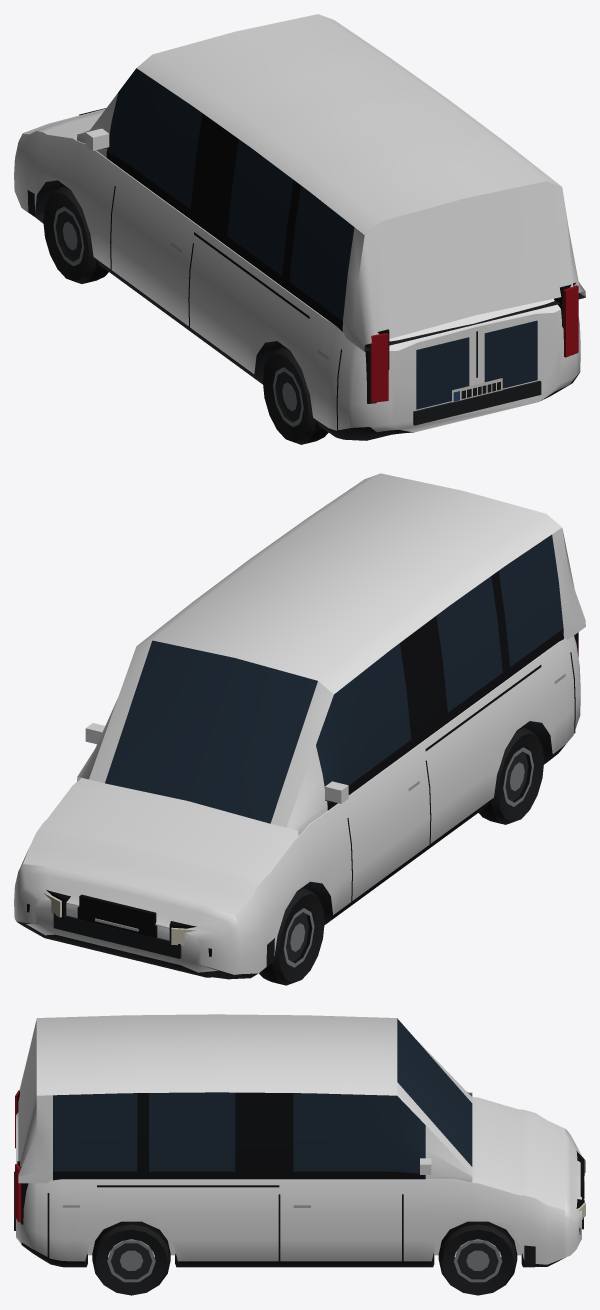
Rendered from van.glb.
The picture shows the model from 3 angles, top to bottom: view 1: azimuth 30°, elevation 25°; view 2: azimuth 150°, elevation 25°; view 3: azimuth 270°, elevation 25°; orthographic projection. The views are drawn at different scales.
Parts seen in each view (by area): view 1: van; view 2: van; view 3: van.
Part boxes in pixels (x1,y1,x2,y2): van: (14, 14, 585, 444); van: (14, 473, 585, 985); van: (14, 1014, 585, 1295).
Size of the model in its own units: 2.02 by 1.99 by 4.95.
